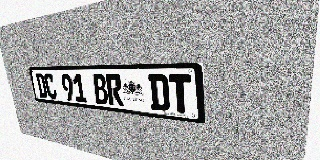1: (71, 74, 87, 102)
9: (60, 74, 75, 101)
B: (92, 74, 109, 105)
C: (44, 74, 57, 99)
D: (148, 74, 170, 112), (35, 74, 48, 98)
R: (105, 74, 124, 107)
T: (168, 74, 192, 114)
